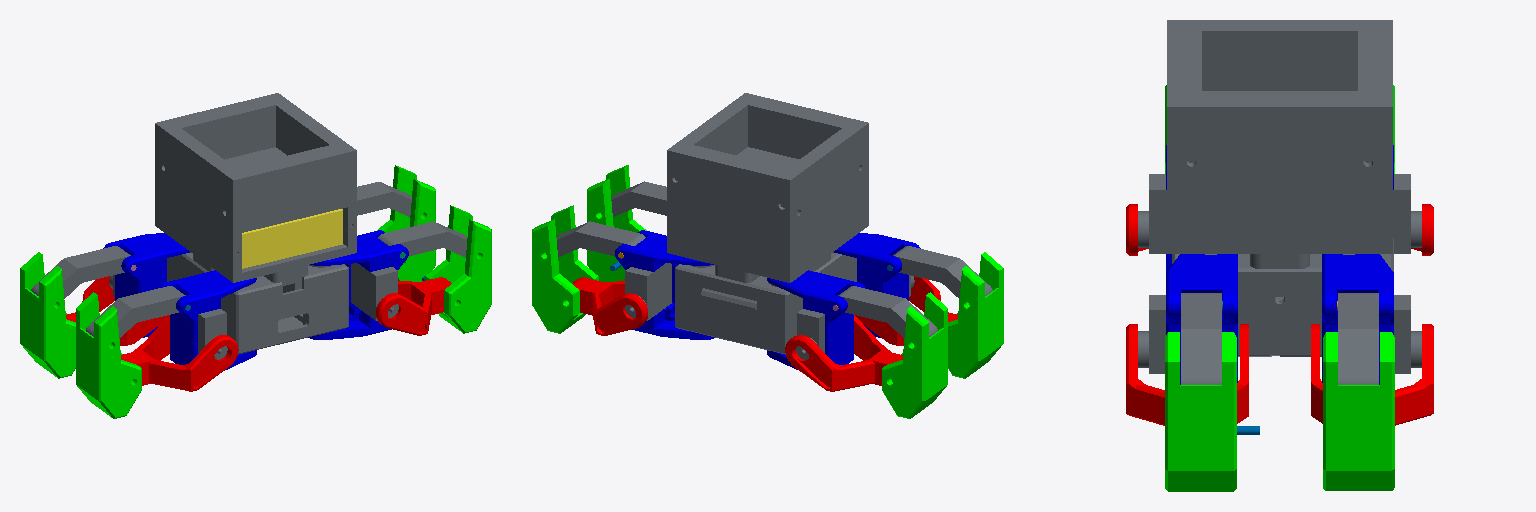
--- Render facts (derived) ---
Views: 3 orthographic renders of the robot side by side, from view 1: azimuth 30°, elevation 25°; view 2: azimuth 150°, elevation 25°; view 3: azimuth 270°, elevation 25°.
Model brutus with 44 links and 43 joints (12 revolute, 31 fixed), rooted at base_link, posed all joints at 0.
Links seen in each view (by area): view 1: up_box_link, base_link, foot_link_bl, foot_link_fl, foot_link_br, leg_bottom_link_bl, battery, leg_elbow_bl, leg_elbow_fl, leg_elbow_br, leg_bottom_link_br, chasis_cover_link (+8 smaller); view 2: up_box_link, base_link, foot_link_fl, foot_link_bl, foot_link_fr, leg_bottom_link_fl, leg_elbow_fl, leg_elbow_bl, leg_elbow_fr, chasis_cover_link, leg_bottom_link_fr, foot_link_br (+7 smaller); view 3: up_box_link, foot_link_br, foot_link_fr, base_link, leg_elbow_br, leg_elbow_fr, upper_link_br, upper_link_fr, leg_bottom_link_br, leg_bottom_link_fr, chasis_cover_link, servo_bl_leg (+5 smaller).
Link boxes in pixels (x1,y1,x2,y2): up_box_link: [155, 93, 356, 282]; base_link: [167, 257, 348, 354]; foot_link_bl: [76, 292, 141, 418]; foot_link_fl: [20, 252, 75, 378]; foot_link_br: [425, 205, 491, 333]; leg_bottom_link_bl: [121, 315, 238, 391]; battery: [242, 209, 342, 268]; leg_elbow_bl: [158, 270, 256, 369]; leg_elbow_fl: [103, 233, 189, 337]; leg_elbow_br: [308, 230, 408, 339]; leg_bottom_link_br: [376, 277, 451, 335]; chasis_cover_link: [170, 253, 348, 305]; up_box_link: [667, 93, 868, 282]; base_link: [675, 257, 856, 354]; foot_link_fl: [882, 292, 947, 418]; foot_link_bl: [948, 252, 1003, 378]; foot_link_fr: [532, 205, 598, 333]; leg_bottom_link_fl: [785, 315, 902, 391]; leg_elbow_fl: [767, 270, 865, 369]; leg_elbow_bl: [834, 233, 920, 337]; leg_elbow_fr: [615, 230, 714, 339]; chasis_cover_link: [675, 253, 852, 305]; leg_bottom_link_fr: [572, 277, 647, 335]; foot_link_br: [587, 165, 646, 281]; up_box_link: [1167, 20, 1392, 253]; foot_link_br: [1165, 332, 1236, 491]; foot_link_fr: [1323, 332, 1394, 490]; base_link: [1238, 238, 1393, 356]; leg_elbow_br: [1166, 254, 1237, 384]; leg_elbow_fr: [1322, 254, 1393, 384]; upper_link_br: [1181, 293, 1221, 384]; upper_link_fr: [1338, 293, 1378, 384]; leg_bottom_link_br: [1126, 324, 1248, 425]; leg_bottom_link_fr: [1311, 324, 1433, 425]; chasis_cover_link: [1172, 254, 1387, 301]; servo_bl_leg: [1138, 174, 1166, 253].
Bounding box of the posed robot: 0.2163 × 0.1025 × 0.1103 m (x, y, z).
31 mesh visuals loaded from 31 distinct referenced files (31 Collada DAE).

The robot description file, URDF, robot "brutus":
<robot name="brutus" version="1.0">
  <!--Generated by RobotCAD, a ROS Workbench for FreeCAD (https://github.com/drfenixion/freecad.robotcad)-->
  <joint name="chasis_to_cover" type="fixed">
    <parent link="base_link"/>
    <child link="chasis_cover_link"/>
    <origin rpy="0 0 0" xyz="0.0 0.0 0.0208"/>
  </joint>
  <joint name="cover_to_fr_spacer" type="fixed">
    <parent link="chasis_cover_link"/>
    <child link="spacer_fr"/>
    <origin rpy="0 0 0" xyz="0.023 0.023 0.0015"/>
  </joint>
  <joint name="cover_to_fl_spacer" type="fixed">
    <parent link="chasis_cover_link"/>
    <child link="spacer_fl"/>
    <origin rpy="0 0 0" xyz="-0.023 0.023 0.0015"/>
  </joint>
  <joint name="cover_to_br_spacer" type="fixed">
    <parent link="chasis_cover_link"/>
    <child link="spacer_br"/>
    <origin rpy="0 0 0" xyz="0.023 -0.023 0.0015"/>
  </joint>
  <joint name="cover_to_bl_spacer" type="fixed">
    <parent link="chasis_cover_link"/>
    <child link="spacer_bl"/>
    <origin rpy="0 0 0" xyz="-0.023 -0.023 0.0015"/>
  </joint>
  <joint name="00_spacer_to_leg_elbow_br" type="revolute">
    <parent link="spacer_br"/>
    <child link="leg_elbow_br"/>
    <origin rpy="0 0 0" xyz="0.0 0.0 -0.0175"/>
    <axis xyz="0 0 1"/>
    <limit effort="0.17" lower="-1.0471975511965976" upper="1.0471975511965976" velocity="10.471975511965978"/>
  </joint>
  <joint name="10_spacer_to_leg_elbow_bl" type="revolute">
    <parent link="spacer_bl"/>
    <child link="leg_elbow_bl"/>
    <origin rpy="0 0 0" xyz="0.0 0.0 -0.0175"/>
    <axis xyz="0 0 1"/>
    <limit effort="0.17" lower="-1.0471975511965976" upper="1.0471975511965976" velocity="10.471975511965978"/>
  </joint>
  <joint name="20_spacer_to_leg_elbow_fl" type="revolute">
    <parent link="spacer_fl"/>
    <child link="leg_elbow_fl"/>
    <origin rpy="0 0 0" xyz="0.0 0.0 -0.0175"/>
    <axis xyz="0 0 1"/>
    <limit effort="0.17" lower="-1.0471975511965976" upper="1.0471975511965976" velocity="10.471975511965978"/>
  </joint>
  <joint name="30_spacer_to_leg_elbow_fr" type="revolute">
    <parent link="spacer_fr"/>
    <child link="leg_elbow_fr"/>
    <origin rpy="0 0 0" xyz="0.0 0.0 -0.0175"/>
    <axis xyz="0 0 1"/>
    <limit effort="0.17" lower="-1.0471975511965976" upper="1.0471975511965976" velocity="10.471975511965978"/>
  </joint>
  <joint name="leg_elbow_to_leg_upper_axis_br" type="fixed">
    <parent link="leg_elbow_br"/>
    <child link="leg_upper_axis_br"/>
    <origin rpy="-1.5707963267948968 0 3.141592653589793" xyz="0.036 0.009 0.017"/>
  </joint>
  <joint name="leg_upper_axis_to_upper_link_br" type="fixed">
    <parent link="leg_upper_axis_br"/>
    <child link="upper_link_br"/>
    <origin rpy="0 0 0" xyz="0.0 0.0 0.01197"/>
  </joint>
  <joint name="leg_elbow_to_leg_upper_axis_bl" type="fixed">
    <parent link="leg_elbow_bl"/>
    <child link="leg_upper_axis_bl"/>
    <origin rpy="-1.5707963267948968 0 0" xyz="-0.036 -0.015 0.017"/>
  </joint>
  <joint name="leg_upper_axis_to_upper_link_bl" type="fixed">
    <parent link="leg_upper_axis_bl"/>
    <child link="upper_link_bl"/>
    <origin rpy="0 0 0" xyz="0.0 0.0 0.01197"/>
  </joint>
  <joint name="leg_upper_axis_to_upper_link_fl" type="fixed">
    <parent link="leg_upper_axis_fl"/>
    <child link="upper_link_fl"/>
    <origin rpy="0 0 0" xyz="0.0 0.0 0.01197"/>
  </joint>
  <joint name="leg_elbow_to_leg_upper_axis_fl" type="fixed">
    <parent link="leg_elbow_fl"/>
    <child link="leg_upper_axis_fl"/>
    <origin rpy="-1.5707963267948963 0 0" xyz="-0.036 -0.009 0.017"/>
  </joint>
  <joint name="leg_elbow_to_leg_upper_axis_fr" type="fixed">
    <parent link="leg_elbow_fr"/>
    <child link="leg_upper_axis_fr"/>
    <origin rpy="-1.5707963267948968 0 3.141592653589793" xyz="0.036 0.015 0.017"/>
  </joint>
  <joint name="leg_upper_axis_to_upper_link_fr" type="fixed">
    <parent link="leg_upper_axis_fr"/>
    <child link="upper_link_fr"/>
    <origin rpy="0 0 0" xyz="0.0 0.0 0.01197"/>
  </joint>
  <joint name="leg_elbow_to_leg_bottom_axis_br" type="fixed">
    <parent link="leg_elbow_br"/>
    <child link="leg_bottom_axis_br"/>
    <origin rpy="1.5707963267948963 0 0" xyz="0.02425 0.0 -0.0049"/>
  </joint>
  <joint name="leg_elbow_to_leg_bottom_axis_fl" type="fixed">
    <parent link="leg_elbow_fl"/>
    <child link="leg_bottom_axis_fl"/>
    <origin rpy="1.5707963267948968 0 3.141592653589793" xyz="-0.024 0.0 -0.0049"/>
  </joint>
  <joint name="01_leg_bottom_axis_to_leg_bottom_link_br" type="revolute">
    <parent link="leg_bottom_axis_br"/>
    <child link="leg_bottom_link_br"/>
    <origin rpy="0 0 0" xyz="0.0 0.0 0.0261"/>
    <axis xyz="0 0 1"/>
    <limit effort="0.17" lower="-1.0471975511965976" upper="1.0471975511965976" velocity="10.471975511965978"/>
  </joint>
  <joint name="21_leg_bottom_axis_to_leg_bottom_link_fl" type="revolute">
    <parent link="leg_bottom_axis_fl"/>
    <child link="leg_bottom_link_fl"/>
    <origin rpy="0 0 0" xyz="0.0 0.0 0.0261"/>
    <axis xyz="0 0 1"/>
    <limit effort="0.17" lower="-1.0471975511965976" upper="1.0471975511965976" velocity="10.471975511965978"/>
  </joint>
  <joint name="11_leg_bottom_axis_to_leg_bottom_link_bl" type="revolute">
    <parent link="leg_bottom_axis_bl"/>
    <child link="leg_bottom_link_bl"/>
    <origin rpy="0 0 0" xyz="0.0 0.0 0.0261"/>
    <axis xyz="0 0 1"/>
    <limit effort="0.17" lower="-1.0471975511965976" upper="1.0471975511965976" velocity="10.471975511965978"/>
  </joint>
  <joint name="leg_elbow_to_leg_bottom_axis_bl" type="fixed">
    <parent link="leg_elbow_bl"/>
    <child link="leg_bottom_axis_bl"/>
    <origin rpy="1.5707963267948963 0 0" xyz="-0.024 0.0 -0.0049"/>
  </joint>
  <joint name="leg_elbow_to_leg_bottom_axis_fr" type="fixed">
    <parent link="leg_elbow_fr"/>
    <child link="leg_bottom_axis_fr"/>
    <origin rpy="1.5707963267948968 0 -3.141592653589793" xyz="0.024 0.0 -0.0049"/>
  </joint>
  <joint name="31_leg_bottom_axis_to_leg_bottom_link_fr" type="revolute">
    <parent link="leg_bottom_axis_fr"/>
    <child link="leg_bottom_link_fr"/>
    <origin rpy="0 0 0" xyz="0.0 0.0 0.0261"/>
    <axis xyz="0 0 1"/>
    <limit effort="0.17" lower="-1.0471975511965976" upper="1.0471975511965976" velocity="10.471975511965978"/>
  </joint>
  <joint name="leg_bottom_link_to_foot_axis_fr" type="fixed">
    <parent link="leg_bottom_link_fr"/>
    <child link="foot_axis_fr"/>
    <origin rpy="0 0 0" xyz="-0.042 -0.01 -0.02935"/>
  </joint>
  <joint name="32_foot_axis_to_foot_link_fr" type="revolute">
    <parent link="foot_axis_fr"/>
    <child link="foot_link_fr"/>
    <origin rpy="0 0 0" xyz="0.0 0.0 0.0065"/>
    <axis xyz="0 0 1"/>
    <limit effort="-0.17" lower="-1.0471975511965976" upper="1.0471975511965976" velocity="10.471975511965978"/>
  </joint>
  <joint name="leg_bottom_link_to_foot_axis_br" type="fixed">
    <parent link="leg_bottom_link_br"/>
    <child link="foot_axis_br"/>
    <origin rpy="3.141592653589793 0 3.141592653589793" xyz="0.042 -0.01 -0.02935"/>
  </joint>
  <joint name="02_foot_axis_to_foot_link_br" type="revolute">
    <parent link="foot_axis_br"/>
    <child link="foot_link_br"/>
    <origin rpy="0 0 0" xyz="0.0 0.0 -0.0065"/>
    <axis xyz="0 0 1"/>
    <limit effort="0.17" lower="-1.0471975511965976" upper="1.0471975511965976" velocity="10.471975511965978"/>
  </joint>
  <joint name="leg_bottom_link_to_foot_axis_fl" type="fixed">
    <parent link="leg_bottom_link_fl"/>
    <child link="foot_axis_fl"/>
    <origin rpy="3.141592653589793 0 3.141592653589793" xyz="0.042 -0.01 -0.01635"/>
  </joint>
  <joint name="22_foot_axis_to_foot_link_fl" type="revolute">
    <parent link="foot_axis_fl"/>
    <child link="foot_link_fl"/>
    <origin rpy="0 0 0" xyz="0.0 0.0 0.0065"/>
    <axis xyz="0 0 1"/>
    <limit effort="0.17" lower="-1.0471975511965976" upper="1.0471975511965976" velocity="10.471975511965978"/>
  </joint>
  <joint name="leg_bottom_link_to_foot_axis_bl" type="fixed">
    <parent link="leg_bottom_link_bl"/>
    <child link="foot_axis_bl"/>
    <origin rpy="0 0 0" xyz="-0.042 -0.01 -0.02935"/>
  </joint>
  <joint name="12_foot_axis_to_foot_link_bl" type="revolute">
    <parent link="foot_axis_bl"/>
    <child link="foot_link_bl"/>
    <origin rpy="0 0 0" xyz="0.0 0.0 0.0065"/>
    <axis xyz="0 0 1"/>
    <limit effort="0.17" lower="-1.0471975511965976" upper="1.0471975511965976" velocity="10.471975511965978"/>
  </joint>
  <joint name="chasis_to_servo_br" type="fixed">
    <parent link="base_link"/>
    <child link="servo_br_chasis"/>
    <origin rpy="3.141592653589793 0 -1.5707963267948968" xyz="-0.023 -0.0168 0.00035"/>
  </joint>
  <joint name="chasis_to_servo_fr" type="fixed">
    <parent link="base_link"/>
    <child link="servo_fr_chasis"/>
    <origin rpy="3.141592653589793 0 1.5707963267948968" xyz="-0.023 0.0168 0.00035"/>
  </joint>
  <joint name="chasis_to_servo_bl" type="fixed">
    <parent link="base_link"/>
    <child link="servo_bl_chasis"/>
    <origin rpy="3.141592653589793 0 1.5707963267948968" xyz="0.023 0.0168 0.00035"/>
  </joint>
  <joint name="chasis_to_servo_fl" type="fixed">
    <parent link="base_link"/>
    <child link="servo_fl_chasis"/>
    <origin rpy="3.141592653589793 0 -1.5707963267948968" xyz="0.023 -0.0168 0.00035"/>
  </joint>
  <joint name="elbow_to_servo_br" type="fixed">
    <parent link="leg_elbow_br"/>
    <child link="servo_br_leg"/>
    <origin rpy="1.5707963267948966 1.5707963267948963 0" xyz="0.02425 -0.0117 0.00125"/>
  </joint>
  <joint name="elbow_to_servo_fr" type="fixed">
    <parent link="leg_elbow_fr"/>
    <child link="servo_fr_leg"/>
    <origin rpy="-1.5707963267948966 1.5707963267948963 0" xyz="0.02425 0.0117 0.00125"/>
  </joint>
  <joint name="elbow_to_servo_bl" type="fixed">
    <parent link="leg_elbow_bl"/>
    <child link="servo_bl_leg"/>
    <origin rpy="1.5707963267948966 1.5707963267948963 0" xyz="-0.02425 -0.0117 0.00125"/>
  </joint>
  <joint name="elbow_to_servo_fl" type="fixed">
    <parent link="leg_elbow_fl"/>
    <child link="servo_fl_leg"/>
    <origin rpy="-1.5707963267948966 1.5707963267948963 0" xyz="-0.02425 0.0117 0.00125"/>
  </joint>
  <joint name="cover_to_box" type="fixed">
    <parent link="chasis_cover_link"/>
    <child link="up_box_link"/>
    <origin rpy="0 0 0" xyz="0.0 0.0 0.008"/>
  </joint>
  <joint name="box_to_battery" type="fixed">
    <parent link="up_box_link"/>
    <child link="battery"/>
    <origin rpy="0 0 0" xyz="-0.028 -0.035 0.005"/>
  </joint>






  <link name="base_link">
    <visual>
      <!--chasis_solid001/chasis_solid001.-->
      <origin rpy="0 0 0" xyz="0.0 0.0 0.0"/>
      <geometry>
        <mesh filename="../meshes/robot_chasis_solid_gh7xs0.dae"/>
      </geometry>
    </visual>
    <collision>
      <!--chasis_solid-->
      <origin rpy="0 0 0" xyz="0.0 0.0 0.0"/>
      <geometry>
        <mesh filename="../meshes/robot_chasis_solid_wpln47.dae"/>
      </geometry>
    </collision>
    <inertial>
        <mass value="0.00485"/>
        <origin xyz="0 0 0" rpy="0 0 0"/>
        <inertia ixx="0.00485" ixy="0" ixz="0" iyy="0.00485" iyz="0" izz="0.00485"/>
    </inertial>
  </link>
  <link name="chasis_cover_link">
    <visual>
      <!--chasis_top001/chasis_top001.-->
      <origin rpy="0 0 3.141592653589793" xyz="0.0 0.0 0.0"/>
      <geometry>
        <mesh filename="../meshes/robot_chasis_top_rj7fnb.dae"/>
      </geometry>
    </visual>
    <collision>
      <!--chasis_top-->
      <origin rpy="0 0 0" xyz="0.0 0.0 0.0"/>
      <geometry>
        <mesh filename="../meshes/robot_chasis_top_9hl3hy.dae"/>
      </geometry>
    </collision>
    <inertial>
        <mass value="0.00335"/>
        <origin xyz="0 0 0" rpy="0 0 0"/>
        <inertia ixx="0.00335" ixy="0" ixz="0" iyy="0.00335" iyz="0" izz="0.00335"/>
    </inertial>
  </link>

  <link name="spacer_fr">
    <visual>
      <!--spacer_body001/spacer_body002.-->
      <origin rpy="0 0 0" xyz="0.0 0.0 0.0"/>
      <geometry>
        <mesh filename="../meshes/robot_spacer_body_pfkzkm.dae"/>
      </geometry>
    </visual>
    <collision>
      <!--spacer_body001/spacer_body002.-->
      <origin rpy="0 0 0" xyz="0.0 0.0 0.0"/>
      <geometry>
        <mesh filename="../meshes/robot_spacer_body_ykg5ow.dae"/>
      </geometry>
    </collision>
    <inertial>
        <mass value="0.00004"/>
        <origin xyz="0 0 0" rpy="0 0 0"/>
        <inertia ixx="0.00004" ixy="0" ixz="0" iyy="0.00004" iyz="0" izz="0.00004"/>
    </inertial>
  </link>
  <link name="spacer_fl">
    <visual>
      <!--spacer_body003/spacer_body004.-->
      <origin rpy="0 0 0" xyz="0.0 0.0 0.0"/>
      <geometry>
        <mesh filename="../meshes/robot_spacer_body_qm9ood.dae"/>
      </geometry>
    </visual>
    <collision>
      <!--spacer_body003/spacer_body004.-->
      <origin rpy="0 0 0" xyz="0.0 0.0 0.0"/>
      <geometry>
        <mesh filename="../meshes/robot_spacer_body_qdzdlv.dae"/>
      </geometry>
    </collision>
    <inertial>
        <mass value="0.00004"/>
        <origin xyz="0 0 0" rpy="0 0 0"/>
        <inertia ixx="0.00004" ixy="0" ixz="0" iyy="0.00004" iyz="0" izz="0.00004"/>
    </inertial>
  </link>
  <link name="spacer_br">
    <visual>
      <!--spacer_body005/spacer_body006.-->
      <origin rpy="0 0 0" xyz="0.0 0.0 0.0"/>
      <geometry>
        <mesh filename="../meshes/robot_spacer_body_rywx4e.dae"/>
      </geometry>
    </visual>
    <collision>
      <!--spacer_body005/spacer_body006.-->
      <origin rpy="0 0 0" xyz="0.0 0.0 0.0"/>
      <geometry>
        <mesh filename="../meshes/robot_spacer_body_sptmy1.dae"/>
      </geometry>
    </collision>
    <inertial>
        <mass value="0.00004"/>
        <origin xyz="0 0 0" rpy="0 0 0"/>
        <inertia ixx="0.00004" ixy="0" ixz="0" iyy="0.00004" iyz="0" izz="0.00004"/>
    </inertial>
  </link>
  <link name="spacer_bl">
    <visual>
      <!--spacer_body007/spacer_body008.-->
      <origin rpy="0 0 0" xyz="0.0 0.0 0.0"/>
      <geometry>
        <mesh filename="../meshes/robot_spacer_body_epfjej.dae"/>
      </geometry>
    </visual>
    <collision>
      <!--spacer_body007/spacer_body008.-->
      <origin rpy="0 0 0" xyz="0.0 0.0 0.0"/>
      <geometry>
        <mesh filename="../meshes/robot_spacer_body_en0t2a.dae"/>
      </geometry>
    </collision>
    <inertial>
        <mass value="0.00004"/>
        <origin xyz="0 0 0" rpy="0 0 0"/>
        <inertia ixx="0.00004" ixy="0" ixz="0" iyy="0.00004" iyz="0" izz="0.00004"/>
    </inertial>
  </link>
  <link name="leg_elbow_br">
    <visual>
      <!--elbow_br001/elbow_br001.-->
      <origin rpy="0 0 0" xyz="0.0 0.0 0.0"/>
      <geometry>
        <mesh filename="../meshes/robot_elbow_br_ijcs8k.dae"/>
      </geometry>
      <material name="blue"/>
    </visual>
    <collision>
      <!--elbow_br001/elbow_br001.-->
      <origin rpy="0 0 0" xyz="0.0 0.0 0.0"/>
      <geometry>
        <mesh filename="../meshes/robot_elbow_br_jcowuw.dae"/>
      </geometry>
    </collision>
    <inertial>
        <mass value="0.00282"/>
        <origin xyz="0.02227 -0.0022 0.00144" rpy="0 0 0"/>
        <inertia ixx="0.00282" ixy="0" ixz="0" iyy="0.00282" iyz="0" izz="0.00282"/>
    </inertial>
  </link>
  <link name="leg_elbow_bl">
    <visual>
      <!--elbow_bl001/elbow_bl001.-->
      <origin rpy="0 0 0" xyz="0.0 0.0 0.0"/>
      <geometry>
        <mesh filename="../meshes/robot_elbow_bl_22bifq.dae"/>
      </geometry>
      <material name="blue"/>
    </visual>
    <collision>
      <!--elbow_bl001/elbow_bl001.-->
      <origin rpy="0 0 0" xyz="0.0 0.0 0.0"/>
      <geometry>
        <mesh filename="../meshes/robot_elbow_bl_dyfjfb.dae"/>
      </geometry>
    </collision>
    <inertial>
        <mass value="0.00282"/>
        <origin xyz="0.02227 -0.0022 0.00144" rpy="0 0 0"/>
        <inertia ixx="0.00282" ixy="0" ixz="0" iyy="0.00282" iyz="0" izz="0.00282"/>
    </inertial>
  </link>
  <link name="leg_elbow_fl">
    <visual>
      <!--elbow_fl003/elbow_fl003.elbow_fl001.-->
      <origin rpy="0 0 0" xyz="0.0 0.0 0.0"/>
      <geometry>
        <mesh filename="../meshes/robot_elbow_fl_k9nt1j.dae"/>
      </geometry>
      <material name="blue"/>
    </visual>
    <collision>
      <!--Eje Z-->
      <origin rpy="-1.5707963267948963 0 -1.5707963267948963" xyz="0.0 0.0 0.0"/>
      <geometry>
        <mesh filename="../meshes/robot_elbow_fl_k9nt1j.dae"/>
      </geometry>
    </collision>
    <inertial>
        <mass value="0.00282"/>
        <origin xyz="0.02227 -0.0022 0.00144" rpy="0 0 0"/>
        <inertia ixx="0.00282" ixy="0" ixz="0" iyy="0.00282" iyz="0" izz="0.00282"/>
    </inertial>
  </link>
  <link name="leg_elbow_fr">
    <visual>
      <!--elbow_fr003/elbow_fr003.-->
      <origin rpy="0 0 0" xyz="0.0 0.0 0.0"/>
      <geometry>
        <mesh filename="../meshes/robot_elbow_fr_nicggp.dae"/>
      </geometry>
      <material name="blue"/>
    </visual>
    <collision>
      <!--elbow_fr003/elbow_fr003.-->
      <origin rpy="0 0 0" xyz="0.0 0.0 0.0"/>
      <geometry>
        <mesh filename="../meshes/robot_elbow_fr_y02wcm.dae"/>
      </geometry>
    </collision>
    <inertial>
        <mass value="0.00282"/>
        <origin xyz="0.02227 -0.0022 0.00144" rpy="0 0 0"/>
        <inertia ixx="0.00282" ixy="0" ixz="0" iyy="0.00282" iyz="0" izz="0.00282"/>
    </inertial>
  </link>
  <link name="leg_upper_axis_br">
    <visual>
      <!--upper_axis001/upper_axis001.-->
      <origin rpy="0 0 0" xyz="0.0 0.0 0.012"/>
      <geometry>
        <cylinder length="0.024" radius="0.0015"/>
      </geometry>
    </visual>
    <collision>
      <!--upper_axis001/upper_axis001.-->
      <origin rpy="0 0 0" xyz="0.0 0.0 0.012"/>
      <geometry>
        <cylinder length="0.024" radius="0.0015"/>
      </geometry>
    </collision>
    <inertial>
        <mass value="0"/>
        <origin xyz="0 0 0" rpy="0 0 0"/>
        <inertia ixx="0" ixy="0" ixz="0" iyy="0" iyz="0" izz="0"/>
    </inertial>
  </link>
  <link name="upper_link_br">
    <visual>
      <!--upper_link001/upper_link001.-->
      <origin rpy="0 0 0" xyz="0.0 0.0 0.0"/>
      <geometry>
        <mesh filename="../meshes/robot_upper_link_3mok0l.dae"/>
      </geometry>
    </visual>
    <collision>
      <!--upper_link001/upper_link001.-->
      <origin rpy="0 0 0" xyz="0.0 0.0 0.0"/>
      <geometry>
        <mesh filename="../meshes/robot_upper_link_3mok0l.dae"/>
      </geometry>
    </collision>
    <inertial>
        <mass value="0.000005"/>
        <origin xyz="-0.02181 0.00228 0.00003" rpy="0 0 0"/>
        <inertia ixx="0.000005" ixy="0" ixz="0" iyy="0.000005" iyz="0" izz="0.000005"/>
    </inertial>
  </link>
  <link name="leg_upper_axis_bl">
    <visual>
      <!--upper_axis003/upper_axis003.-->
      <origin rpy="0 0 0" xyz="0.0 0.0 0.012"/>
      <geometry>
        <cylinder length="0.024" radius="0.0015"/>
      </geometry>
    </visual>
    <collision>
      <!--upper_axis003/upper_axis003.-->
      <origin rpy="0 0 0" xyz="0.0 0.0 0.012"/>
      <geometry>
        <cylinder length="0.024" radius="0.0015"/>
      </geometry>
    </collision>
    <inertial>
        <mass value="0"/>
        <origin xyz="0 0 0" rpy="0 0 0"/>
        <inertia ixx="0" ixy="0" ixz="0" iyy="0" iyz="0" izz="0"/>
    </inertial>
  </link>
  <link name="upper_link_bl">
    <visual>
      <!--upper_link003/upper_link003.-->
      <origin rpy="0 0 0" xyz="0.0 0.0 0.0"/>
      <geometry>
        <mesh filename="../meshes/robot_upper_link_2rlvkm.dae"/>
      </geometry>
    </visual>
    <collision>
      <!--upper_link003/upper_link003.-->
      <origin rpy="0 0 0" xyz="0.0 0.0 0.0"/>
      <geometry>
        <mesh filename="../meshes/robot_upper_link_2rlvkm.dae"/>
      </geometry>
    </collision>
    <inertial>
        <mass value="0.000005"/>
        <origin xyz="-0.02181 0.00228 0.00003" rpy="0 0 0"/>
        <inertia ixx="0.000005" ixy="0" ixz="0" iyy="0.000005" iyz="0" izz="0.000005"/>
    </inertial>
  </link>
  <link name="leg_upper_axis_fl">
    <visual>
      <!--upper_axis005/upper_axis005.-->
      <origin rpy="0 0 0" xyz="0.0 0.0 0.012"/>
      <geometry>
        <cylinder length="0.024" radius="0.0015"/>
      </geometry>
    </visual>
    <collision>
      <!--upper_axis005/upper_axis005.-->
      <origin rpy="0 0 0" xyz="0.0 0.0 0.012"/>
      <geometry>
        <cylinder length="0.024" radius="0.0015"/>
      </geometry>
    </collision>
    <inertial>
        <mass value="0"/>
        <origin xyz="0 0 0" rpy="0 0 0"/>
        <inertia ixx="0" ixy="0" ixz="0" iyy="0" iyz="0" izz="0"/>
    </inertial>
  </link>
  <link name="upper_link_fl">
    <visual>
      <!--upper_link005/upper_link005.-->
      <origin rpy="0 0 0" xyz="0.0 0.0 0.0"/>
      <geometry>
        <mesh filename="../meshes/robot_upper_link_umbvcy.dae"/>
      </geometry>
    </visual>
    <collision>
      <!--upper_link005/upper_link005.-->
      <origin rpy="0 0 0" xyz="0.0 0.0 0.0"/>
      <geometry>
        <mesh filename="../meshes/robot_upper_link_umbvcy.dae"/>
      </geometry>
    </collision>
    <inertial>
        <mass value="0.000005"/>
        <origin xyz="-0.02181 0.00228 0.00003" rpy="0 0 0"/>
        <inertia ixx="0.000005" ixy="0" ixz="0" iyy="0.000005" iyz="0" izz="0.000005"/>
    </inertial>
  </link>
  <link name="leg_upper_axis_fr">
    <visual>
      <!--upper_axis007/upper_axis007.-->
      <origin rpy="0 0 0" xyz="0.0 0.0 0.012"/>
      <geometry>
        <cylinder length="0.024" radius="0.0015"/>
      </geometry>
    </visual>
    <collision>
      <!--upper_axis007/upper_axis007.-->
      <origin rpy="0 0 0" xyz="0.0 0.0 0.012"/>
      <geometry>
        <cylinder length="0.024" radius="0.0015"/>
      </geometry>
    </collision>
    <inertial>
        <mass value="0"/>
        <origin xyz="0 0 0" rpy="0 0 0"/>
        <inertia ixx="0" ixy="0" ixz="0" iyy="0" iyz="0" izz="0"/>
    </inertial>
  </link>
  <link name="upper_link_fr">
    <visual>
      <!--upper_link007/upper_link007.-->
      <origin rpy="0 0 0" xyz="0.0 0.0 0.0"/>
      <geometry>
        <mesh filename="../meshes/robot_upper_link_ggszxc.dae"/>
      </geometry>
    </visual>
    <collision>
      <!--upper_link007/upper_link007.-->
      <origin rpy="0 0 0" xyz="0.0 0.0 0.0"/>
      <geometry>
        <mesh filename="../meshes/robot_upper_link_ggszxc.dae"/>
      </geometry>
    </collision>
    <inertial>
        <mass value="0.000005"/>
        <origin xyz="-0.02181 0.00228 0.00003" rpy="0 0 0"/>
        <inertia ixx="0.000005" ixy="0" ixz="0" iyy="0.000005" iyz="0" izz="0.000005"/>
    </inertial>
  </link>
  <link name="leg_bottom_axis_br">
    <visual>
      <!--lower_axis002/lower_axis002.-->
      <origin rpy="0 0 0" xyz="0.0 0.0 0.01"/>
      <geometry>
        <cylinder length="0.02" radius="0.002"/>
      </geometry>
    </visual>
    <collision>
      <!--lower_axis002/lower_axis002.-->
      <origin rpy="0 0 0" xyz="0.0 0.0 0.01"/>
      <geometry>
        <cylinder length="0.02" radius="0.002"/>
      </geometry>
    </collision>
    <inertial>
        <mass value="0"/>
        <origin xyz="0 0 0" rpy="0 0 0"/>
        <inertia ixx="0" ixy="0" ixz="0" iyy="0" iyz="0" izz="0"/>
    </inertial>
  </link>
  <link name="leg_bottom_axis_fl">
    <visual>
      <!--lower_axis004/lower_axis003.-->
      <origin rpy="0 0 0" xyz="0.0 0.0 0.01"/>
      <geometry>
        <cylinder length="0.02" radius="0.002"/>
      </geometry>
    </visual>
    <collision>
      <!--lower_axis004/lower_axis003.-->
      <origin rpy="0 0 0" xyz="0.0 0.0 0.01"/>
      <geometry>
        <cylinder length="0.02" radius="0.002"/>
      </geometry>
    </collision>
    <inertial>
        <mass value="0"/>
        <origin xyz="0 0 0" rpy="0 0 0"/>
        <inertia ixx="0" ixy="0" ixz="0" iyy="0" iyz="0" izz="0"/>
    </inertial>
  </link>
  <link name="leg_bottom_link_br">
    <visual>
      <!--left_bottom_link001/left_bottom_link001.-->
      <origin rpy="0 0 0" xyz="0.0 0.0 0.0"/>
      <geometry>
        <mesh filename="../meshes/robot_left_bottom_link_mwapaw.dae"/>
      </geometry>
      <material name="red"/>
    </visual>
    <collision>
      <!--left_bottom_link001/left_bottom_link001.-->
      <origin rpy="0 0 0" xyz="0.0 0.0 0.0"/>
      <geometry>
        <mesh filename="../meshes/robot_left_bottom_link_mwapaw.dae"/>
      </geometry>
    </collision>
    <inertial>
        <mass value="0.00159"/>
        <origin xyz="0.0234 -0.0078 -0.0231" rpy="0 0 0"/>
        <inertia ixx="0.00159" ixy="0" ixz="0" iyy="0" iyz="0" izz="0.00159"/>
    </inertial>
  </link>
  <link name="leg_bottom_link_fl">
    <visual>
      <!--left_bottom_link005/left_bottom_link005.-->
      <origin rpy="0 0 0" xyz="0.0 0.0 0.0"/>
      <geometry>
        <mesh filename="../meshes/robot_left_bottom_link_54hzm8.dae"/>
      </geometry>
      <material name="red"/>
    </visual>
    <collision>
      <!--left_bottom_link005/left_bottom_link005.-->
      <origin rpy="0 0 0" xyz="0.0 0.0 0.0"/>
      <geometry>
        <mesh filename="../meshes/robot_left_bottom_link_54hzm8.dae"/>
      </geometry>
    </collision>
    <inertial>
        <mass value="0.00159"/>
        <origin xyz="0.0234 -0.0078 -0.0231" rpy="0 0 0"/>
        <inertia ixx="0.00159" ixy="0" ixz="0" iyy="0.00159" iyz="0" izz="0.00159"/>
    </inertial>
  </link>
  <link name="leg_bottom_axis_bl">
    <visual>
      <!--lower_axis008/lower_axis007.-->
      <origin rpy="0 0 0" xyz="0.0 0.0 0.01"/>
      <geometry>
        <cylinder length="0.02" radius="0.002"/>
      </geometry>
    </visual>
    <collision>
      <!--lower_axis008/lower_axis007.-->
      <origin rpy="0 0 0" xyz="0.0 0.0 0.01"/>
      <geometry>
        <cylinder length="0.02" radius="0.002"/>
      </geometry>
    </collision>
    <inertial>
        <mass value="0"/>
        <origin xyz="0 0 0" rpy="0 0 0"/>
        <inertia ixx="0" ixy="0" ixz="0" iyy="0" iyz="0" izz="0"/>
    </inertial>
  </link>
  <link name="leg_bottom_link_bl">
    <visual>
      <!--right_bottom_link001/right_bottom_link001.-->
      <origin rpy="0 0 0" xyz="0.0 0.0 0.0"/>
      <geometry>
        <mesh filename="../meshes/robot_right_bottom_link_nm1jks.dae"/>
      </geometry>
      <material name="red"/>
    </visual>
    <collision>
      <!--right_bottom_link001/right_bottom_link001.-->
      <origin rpy="0 0 0" xyz="0.0 0.0 0.0"/>
      <geometry>
        <mesh filename="../meshes/robot_right_bottom_link_nm1jks.dae"/>
      </geometry>
    </collision>
    <inertial>
        <mass value="0.00159"/>
        <origin xyz="0.0234 -0.0078 -0.0231" rpy="0 0 0"/>
        <inertia ixx="0.00159" ixy="0" ixz="0" iyy="0.00159" iyz="0" izz="0.00159"/>
    </inertial>
  </link>
  <link name="leg_bottom_axis_fr">
    <visual>
      <!--lower_axis010/lower_axis009.-->
      <origin rpy="0 0 0" xyz="0.0 0.0 0.01"/>
      <geometry>
        <cylinder length="0.02" radius="0.002"/>
      </geometry>
    </visual>
    <collision>
      <!--lower_axis010/lower_axis009.-->
      <origin rpy="0 0 0" xyz="0.0 0.0 0.01"/>
      <geometry>
        <cylinder length="0.02" radius="0.002"/>
      </geometry>
    </collision>
    <inertial>
        <mass value="0"/>
        <origin xyz="0 0 0" rpy="0 0 0"/>
        <inertia ixx="0" ixy="0" ixz="0" iyy="0" iyz="0" izz="0"/>
    </inertial>
  </link>
  <link name="leg_bottom_link_fr">
    <visual>
      <!--right_bottom_link003/right_bottom_link003.-->
      <origin rpy="0 0 0" xyz="0.0 0.0 0.0"/>
      <geometry>
        <mesh filename="../meshes/robot_right_bottom_link_eam2j3.dae"/>
      </geometry>
      <material name="red"/>
    </visual>
    <collision>
      <!--right_bottom_link003/right_bottom_link003.-->
      <origin rpy="0 0 0" xyz="0.0 0.0 0.0"/>
      <geometry>
        <mesh filename="../meshes/robot_right_bottom_link_eam2j3.dae"/>
      </geometry>
    </collision>
    <inertial>
        <mass value="0.00159"/>
        <origin xyz="0.0234 -0.0078 -0.0231" rpy="0 0 0"/>
        <inertia ixx="0.00159" ixy="0" ixz="0" iyy="0.00159" iyz="0" izz="0.00159"/>
    </inertial>
  </link>
  <link name="foot_axis_fr">
    <visual>
      <!--foot_axis001/foot_axis001.-->
      <origin rpy="0 0 0" xyz="0.0 0.0 0.0065"/>
      <geometry>
        <cylinder length="0.013" radius="0.0015"/>
      </geometry>
    </visual>
    <collision>
      <!--foot_axis001/foot_axis001.-->
      <origin rpy="0 0 0" xyz="0.0 0.0 0.0065"/>
      <geometry>
        <cylinder length="0.013" radius="0.0015"/>
      </geometry>
    </collision>
    <inertial>
        <mass value="0"/>
        <origin xyz="0 0 0" rpy="0 0 0"/>
        <inertia ixx="0" ixy="0" ixz="0" iyy="0" iyz="0" izz="0"/>
    </inertial>
  </link>
  <link name="foot_link_fr">
    <visual>
      <!--foot001/foot001.-->
      <origin rpy="0 0 0" xyz="0.0 0.0 0.0"/>
      <geometry>
        <mesh filename="../meshes/robot_foot_6evywk.dae"/>
      </geometry>
      <material name="green"/>
    </visual>
    <collision>
      <!--foot001/foot001.-->
      <origin rpy="0 0 0" xyz="0.0 0.0 0.0"/>
      <geometry>
        <mesh filename="../meshes/robot_foot_6evywk.dae"/>
      </geometry>
    </collision>
    <inertial>
        <mass value="0.00294"/>
        <origin xyz="-0.01032 0.00349 0" rpy="0 0 0"/>
        <inertia ixx="0.00294" ixy="0" ixz="0" iyy="0.00294" iyz="0" izz="0.00294"/>
    </inertial>
  </link>
  <link name="foot_axis_br">
    <visual>
      <!--foot_axis003/foot_axis003.-->
      <origin rpy="0 0 0" xyz="0.0 0.0 0.0065"/>
      <geometry>
        <cylinder length="0.013" radius="0.0015"/>
      </geometry>
    </visual>
    <collision>
      <!--foot_axis003/foot_axis003.-->
      <origin rpy="0 0 0" xyz="0.0 0.0 0.0065"/>
      <geometry>
        <cylinder length="0.013" radius="0.0015"/>
      </geometry>
    </collision>
    <inertial>
        <mass value="0"/>
        <origin xyz="0 0 0" rpy="0 0 0"/>
        <inertia ixx="0" ixy="0" ixz="0" iyy="0" iyz="0" izz="0"/>
    </inertial>
  </link>
  <link name="foot_link_br">
    <visual>
      <!--foot003/foot003.-->
      <origin rpy="0 0 0" xyz="0.0 0.0 0.0"/>
      <geometry>
        <mesh filename="../meshes/robot_foot_eruimg.dae"/>
      </geometry>
      <material name="green"/>
    </visual>
    <collision>
      <!--foot003/foot003.-->
      <origin rpy="0 0 0" xyz="0.0 0.0 0.0"/>
      <geometry>
        <mesh filename="../meshes/robot_foot_eruimg.dae"/>
      </geometry>
    </collision>
    <inertial>
        <mass value="0.00294"/>
        <origin xyz="-0.01032 0.00349 0" rpy="0 0 0"/>
        <inertia ixx="0.00294" ixy="0" ixz="0" iyy="0.00294" iyz="0" izz="0.00294"/>
    </inertial>
  </link>
  <link name="foot_axis_fl">
    <visual>
      <!--foot_axis005/foot_axis005.-->
      <origin rpy="0 0 0" xyz="0.0 0.0 0.0065"/>
      <geometry>
        <cylinder length="0.013" radius="0.0015"/>
      </geometry>
    </visual>
    <collision>
      <!--foot_axis005/foot_axis005.-->
      <origin rpy="0 0 0" xyz="0.0 0.0 0.0065"/>
      <geometry>
        <cylinder length="0.013" radius="0.0015"/>
      </geometry>
    </collision>
    <inertial>
        <mass value="0"/>
        <origin xyz="0 0 0" rpy="0 0 0"/>
        <inertia ixx="0" ixy="0" ixz="0" iyy="0" iyz="0" izz="0"/>
    </inertial>
  </link>
  <link name="foot_link_fl">
    <visual>
      <!--foot005/foot005.-->
      <origin rpy="0 0 0" xyz="0.0 0.0 0.0"/>
      <geometry>
        <mesh filename="../meshes/robot_foot_z7rhv3.dae"/>
      </geometry>
      <material name="green"/>
    </visual>
    <collision>
      <!--foot005/foot005.-->
      <origin rpy="0 0 0" xyz="0.0 0.0 0.0"/>
      <geometry>
        <mesh filename="../meshes/robot_foot_z7rhv3.dae"/>
      </geometry>
    </collision>
    <inertial>
        <mass value="0.00294"/>
        <origin xyz="-0.01032 0.00349 0" rpy="0 0 0"/>
        <inertia ixx="0.00294" ixy="0" ixz="0" iyy="0.00294" iyz="0" izz="0.00294"/>
    </inertial>
  </link>
  <link name="foot_axis_bl">
    <visual>
      <!--foot_axis007/foot_axis007.-->
      <origin rpy="0 0 0" xyz="0.0 0.0 0.0065"/>
      <geometry>
        <cylinder length="0.013" radius="0.0015"/>
      </geometry>
    </visual>
    <collision>
      <!--foot_axis007/foot_axis007.-->
      <origin rpy="0 0 0" xyz="0.0 0.0 0.0065"/>
      <geometry>
        <cylinder length="0.013" radius="0.0015"/>
      </geometry>
    </collision>
    <inertial>
        <mass value="0"/>
        <origin xyz="0 0 0" rpy="0 0 0"/>
        <inertia ixx="0" ixy="0" ixz="0" iyy="0" iyz="0" izz="0"/>
    </inertial>
  </link>
  <link name="foot_link_bl">
    <visual>
      <!--foot007/foot007.-->
      <origin rpy="0 0 0" xyz="0.0 0.0 0.0"/>
      <geometry>
        <mesh filename="../meshes/robot_foot_wkfqst.dae"/>
      </geometry>
      <material name="green"/>
    </visual>
    <collision>
      <!--foot007/foot007.-->
      <origin rpy="0 0 0" xyz="0.0 0.0 0.0"/>
      <geometry>
        <mesh filename="../meshes/robot_foot_wkfqst.dae"/>
      </geometry>
    </collision>
    <inertial>
        <mass value="0.00294"/>
        <origin xyz="-0.01032 0.00349 0" rpy="0 0 0"/>
        <inertia ixx="0.00294" ixy="0" ixz="0" iyy="0.00294" iyz="0" izz="0.00294"/>
    </inertial>
  </link>
  <link name="servo_br_chasis">
    <visual>
      <!--servo001/servo001.-->
      <origin rpy="0 0 0" xyz="0.0 0.0 0.0"/>
      <geometry>
        <mesh filename="../meshes/robot_servo_gzkmtc.dae"/>
      </geometry>
    </visual>
    <collision>
      <!--servo001/servo001.-->
      <origin rpy="0 0 0" xyz="0.0 0.0 0.0"/>
      <geometry>
        <mesh filename="../meshes/robot_servo_gzkmtc.dae"/>
      </geometry>
    </collision>
    <inertial>
        <mass value="0.009"/>
        <origin xyz="0 0 0" rpy="0 0 0"/>
        <inertia ixx="0.009" ixy="0" ixz="0" iyy="0.009" iyz="0" izz="0.009"/>
    </inertial>
  </link>
  <link name="servo_fr_chasis">
    <visual>
      <!--servo003/servo003.-->
      <origin rpy="0 0 0" xyz="0.0 0.0 0.0"/>
      <geometry>
        <mesh filename="../meshes/robot_servo_lm7nas.dae"/>
      </geometry>
    </visual>
    <collision>
      <!--servo003/servo003.-->
      <origin rpy="0 0 0" xyz="0.0 0.0 0.0"/>
      <geometry>
        <mesh filename="../meshes/robot_servo_lm7nas.dae"/>
      </geometry>
    </collision>
    <inertial>
        <mass value="0.009"/>
        <origin xyz="0 0 0" rpy="0 0 0"/>
        <inertia ixx="0.009" ixy="0" ixz="0" iyy="0.009" iyz="0" izz="0.009"/>
    </inertial>
  </link>
  <link name="servo_bl_chasis">
    <visual>
      <!--servo005/servo005.-->
      <origin rpy="0 0 0" xyz="0.0 0.0 0.0"/>
      <geometry>
        <mesh filename="../meshes/robot_servo_uk13q0.dae"/>
      </geometry>
    </visual>
    <collision>
      <!--servo005/servo005.-->
      <origin rpy="0 0 0" xyz="0.0 0.0 0.0"/>
      <geometry>
        <mesh filename="../meshes/robot_servo_uk13q0.dae"/>
      </geometry>
    </collision>
    <inertial>
        <mass value="0.009"/>
        <origin xyz="0 0 0" rpy="0 0 0"/>
        <inertia ixx="0.009" ixy="0" ixz="0" iyy="0.009" iyz="0" izz="0.009"/>
    </inertial>
  </link>
  <link name="servo_fl_chasis">
    <visual>
      <!--servo007/servo007.-->
      <origin rpy="0 0 0" xyz="0.0 0.0 0.0"/>
      <geometry>
        <mesh filename="../meshes/robot_servo_oiqija.dae"/>
      </geometry>
    </visual>
    <collision>
      <!--servo007/servo007.-->
      <origin rpy="0 0 0" xyz="0.0 0.0 0.0"/>
      <geometry>
        <mesh filename="../meshes/robot_servo_oiqija.dae"/>
      </geometry>
    </collision>
    <inertial>
        <mass value="0.009"/>
        <origin xyz="0 0 0" rpy="0 0 0"/>
        <inertia ixx="0.009" ixy="0" ixz="0" iyy="0.009" iyz="0" izz="0.009"/>
    </inertial>
  </link>
  <link name="servo_br_leg">
    <visual>
      <!--servo009/servo009.-->
      <origin rpy="0 0 0" xyz="0.0 0.0 0.0"/>
      <geometry>
        <mesh filename="../meshes/robot_servo_o5juby.dae"/>
      </geometry>
    </visual>
    <collision>
      <!--servo009/servo009.-->
      <origin rpy="0 0 0" xyz="0.0 0.0 0.0"/>
      <geometry>
        <mesh filename="../meshes/robot_servo_o5juby.dae"/>
      </geometry>
    </collision>
    <inertial>
        <mass value="0.009"/>
        <origin xyz="0 0 0" rpy="0 0 0"/>
        <inertia ixx="0.009" ixy="0" ixz="0" iyy="0.009" iyz="0" izz="0.009"/>
    </inertial>
  </link>
  <link name="servo_fr_leg">
    <visual>
      <!--servo011/servo011.-->
      <origin rpy="0 0 0" xyz="0.0 0.0 0.0"/>
      <geometry>
        <mesh filename="../meshes/robot_servo_kbicgk.dae"/>
      </geometry>
    </visual>
    <collision>
      <!--servo011/servo011.-->
      <origin rpy="0 0 0" xyz="0.0 0.0 0.0"/>
      <geometry>
        <mesh filename="../meshes/robot_servo_kbicgk.dae"/>
      </geometry>
    </collision>
    <inertial>
        <mass value="0.009"/>
        <origin xyz="0 0 0" rpy="0 0 0"/>
        <inertia ixx="0.009" ixy="0" ixz="0" iyy="0.009" iyz="0" izz="0.009"/>
    </inertial>
  </link>
  <link name="servo_bl_leg">
    <visual>
      <!--servo013/servo013.-->
      <origin rpy="0 0 0" xyz="0.0 0.0 0.0"/>
      <geometry>
        <mesh filename="../meshes/robot_servo_yposhh.dae"/>
      </geometry>
    </visual>
    <collision>
      <!--servo013/servo013.-->
      <origin rpy="0 0 0" xyz="0.0 0.0 0.0"/>
      <geometry>
        <mesh filename="../meshes/robot_servo_yposhh.dae"/>
      </geometry>
    </collision>
    <inertial>
        <mass value="0.009"/>
        <origin xyz="0 0 0" rpy="0 0 0"/>
        <inertia ixx="0.009" ixy="0" ixz="0" iyy="0.009" iyz="0" izz="0.009"/>
    </inertial>
  </link>
  <link name="servo_fl_leg">
    <visual>
      <!--servo015/servo015.-->
      <origin rpy="0 0 0" xyz="0.0 0.0 0.0"/>
      <geometry>
        <mesh filename="../meshes/robot_servo_iojgfp.dae"/>
      </geometry>
    </visual>
    <collision>
      <!--servo015/servo015.-->
      <origin rpy="0 0 0" xyz="0.0 0.0 0.0"/>
      <geometry>
        <mesh filename="../meshes/robot_servo_iojgfp.dae"/>
      </geometry>
    </collision>
    <inertial>
        <mass value="0.009"/>
        <origin xyz="0 0 0" rpy="0 0 0"/>
        <inertia ixx="0.009" ixy="0" ixz="0" iyy="0.009" iyz="0" izz="0.009"/>
    </inertial>
  </link>
  <link name="up_box_link">
    <visual>
      <origin rpy="0 0 0" xyz="0.0 0.0 0.0"/>
      <geometry>
        <mesh filename="../meshes/robot_up_box_hkhjvv.dae"/>
      </geometry>
    </visual>
    <collision>
      <origin rpy="0 0 0" xyz="0.0 0.0 0.0"/>
      <geometry>
        <mesh filename="../meshes/robot_up_box_hkhjvv.dae"/>
      </geometry>
    </collision>
    <inertial>
        <mass value="0.03146"/>
        <origin xyz="-0.000269 0.00184 0.002399" rpy="0 0 0"/>
        <inertia ixx="0.03146" ixy="0" ixz="0" iyy="v" iyz="0" izz="0.03146"/>
    </inertial>
  </link>
  <link name="battery">
    <visual>
      <origin rpy="0 0 0" xyz="0.028 0.035 0.009"/>
      <geometry>
        <box size="0.056 0.07 0.018"/>
      </geometry>
    </visual>
    <collision>
      <origin rpy="0 0 0" xyz="0.028 0.035 0.009"/>
      <geometry>
        <box size="0.056 0.07 0.018"/>
      </geometry>
    </collision>
    <inertial>
        <mass value="0.2"/>
        <origin xyz="0 0 0" rpy="0 0 0"/>
        <inertia ixx="0.2" ixy="0" ixz="0" iyy="0.2" iyz="0" izz="0.2"/>
    </inertial>
  </link>

  <material name="blue">
    <color rgba="0 0 1 1"/>
  </material>
  <material name="red">
    <color rgba="1 0 0 1"/>
  </material>
  <material name="green">
    <color rgba="0 1 0 1"/>
  </material>

</robot>
